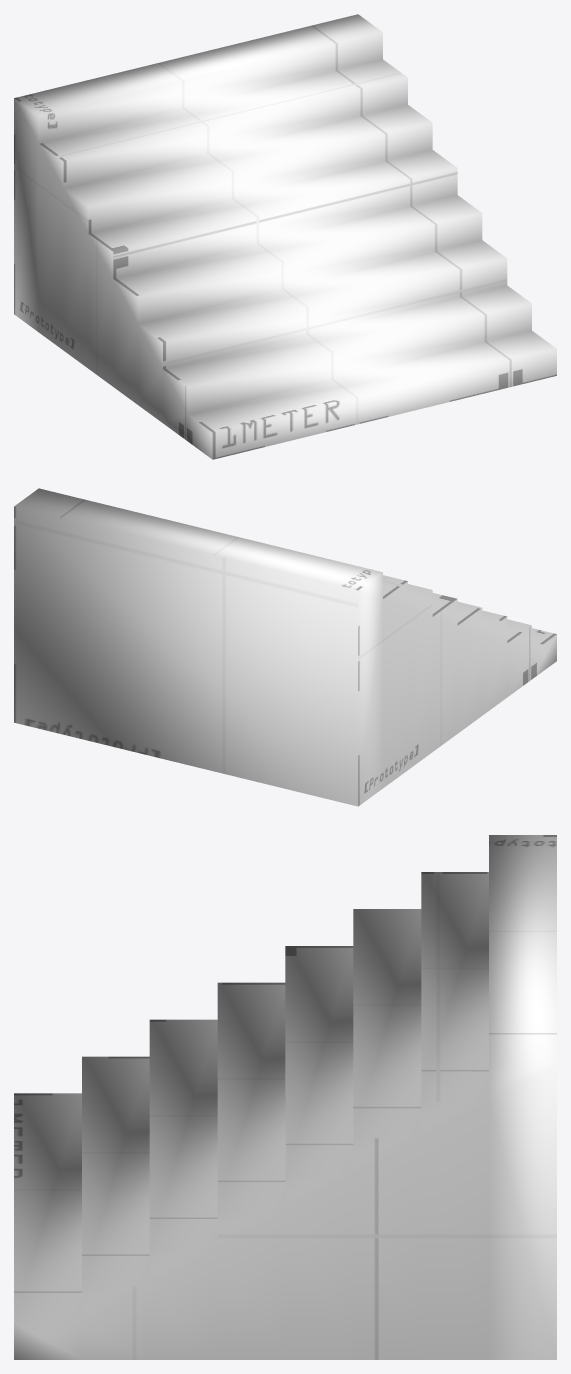
File: Stairs5x5Mesh.fbx
The picture shows the model from 3 angles, top to bottom: view 1: azimuth 30°, elevation 25°; view 2: azimuth 150°, elevation 25°; view 3: azimuth 270°, elevation 25°; orthographic projection. The views are drawn at different scales.
Parts seen in each view (by area): view 1: Stairs5x5_low; view 2: Stairs5x5_low; view 3: Stairs5x5_low.
Boxes of the visible parts, bbox=[...] form: Stairs5x5_low: bbox=[14, 14, 556, 459]; Stairs5x5_low: bbox=[14, 488, 556, 806]; Stairs5x5_low: bbox=[14, 835, 556, 1359].
Size of the model in its own units: 5 by 3 by 5.
1 material, 1 textured.
